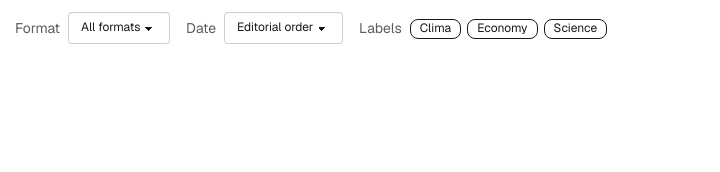
it: ReportingFilters › hides the clear control until something is active
Check: the button "Clear filters" is not shown
Select "Text" in the dropdown labelled "Format": (119, 28) [68,12,170,44]
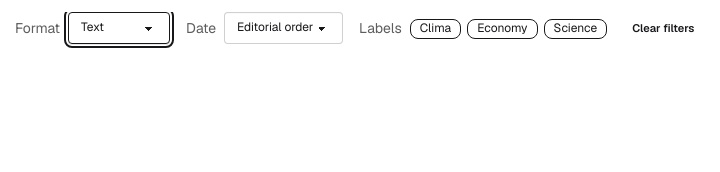
Check: the button "Clear filters" is shown, box [623,16,703,40]
